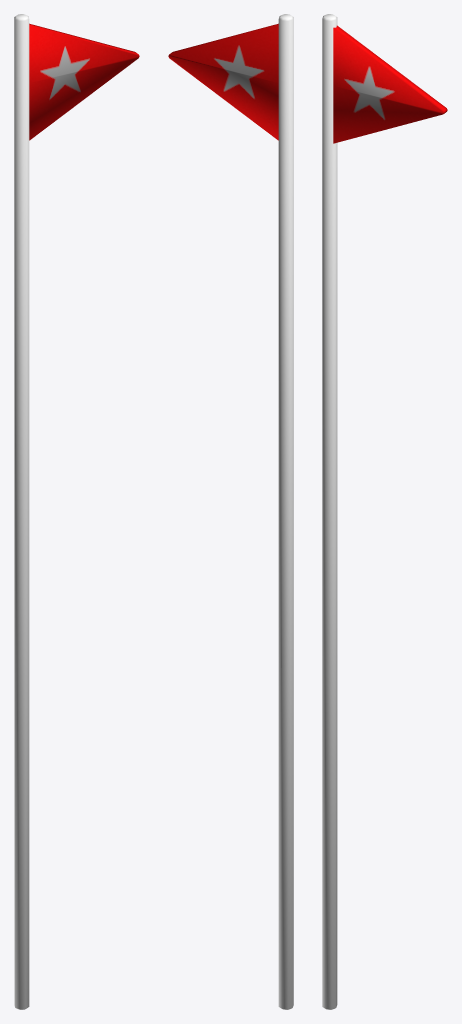
The model's file is Goal_Flag.glb.
The picture shows the model from 3 angles, left to right: view 1: azimuth 30°, elevation 25°; view 2: azimuth 150°, elevation 25°; view 3: azimuth 330°, elevation 25°; orthographic projection.
Visible parts, largest first — view 1: Goal_Flag; view 2: Goal_Flag; view 3: Goal_Flag.
Part boxes in pixels (bbox=[...]): Goal_Flag: bbox=[14, 14, 139, 1009]; Goal_Flag: bbox=[168, 14, 293, 1009]; Goal_Flag: bbox=[322, 14, 447, 1009].
Bounding box in the file's own units: 0.1296 × 1 × 0.014.
Materials: 1 (1 with a texture image).
